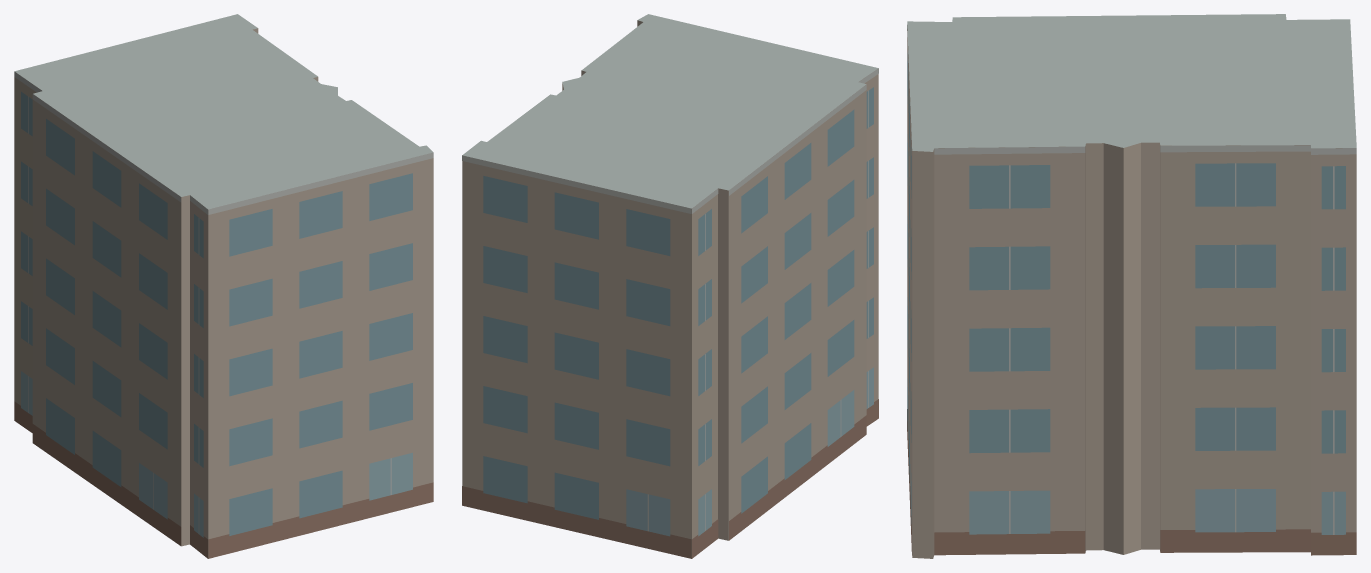
The model's file is survey-upis-32730982.glb.
The picture shows the model from 3 angles, left to right: view 1: azimuth 30°, elevation 25°; view 2: azimuth 150°, elevation 25°; view 3: azimuth 270°, elevation 25°; orthographic projection. The views are drawn at different scales.
Parts seen in each view (by area): view 1: survey-upis-32730982.tmp; view 2: survey-upis-32730982.tmp; view 3: survey-upis-32730982.tmp.
Part boxes in pixels (x1,y1,x2,y2): survey-upis-32730982.tmp: (14,14,433,558); survey-upis-32730982.tmp: (462,14,878,558); survey-upis-32730982.tmp: (907,14,1356,558).
Bounding box in the file's own units: 11.09 × 15.25 × 15.28.
